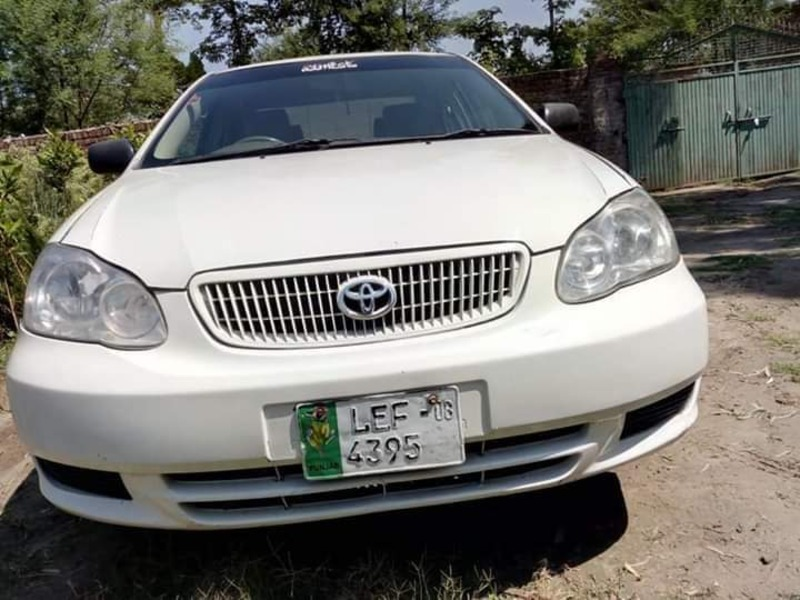License Plate: (292, 385, 475, 481)
